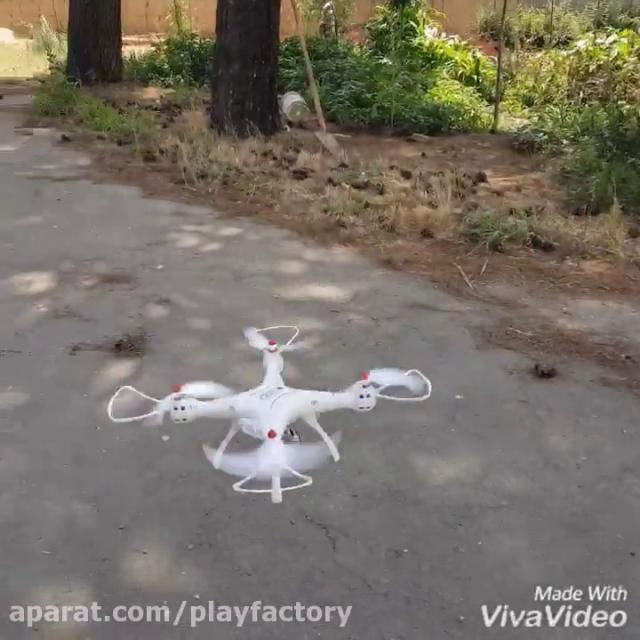drone: (104, 322, 436, 505)
